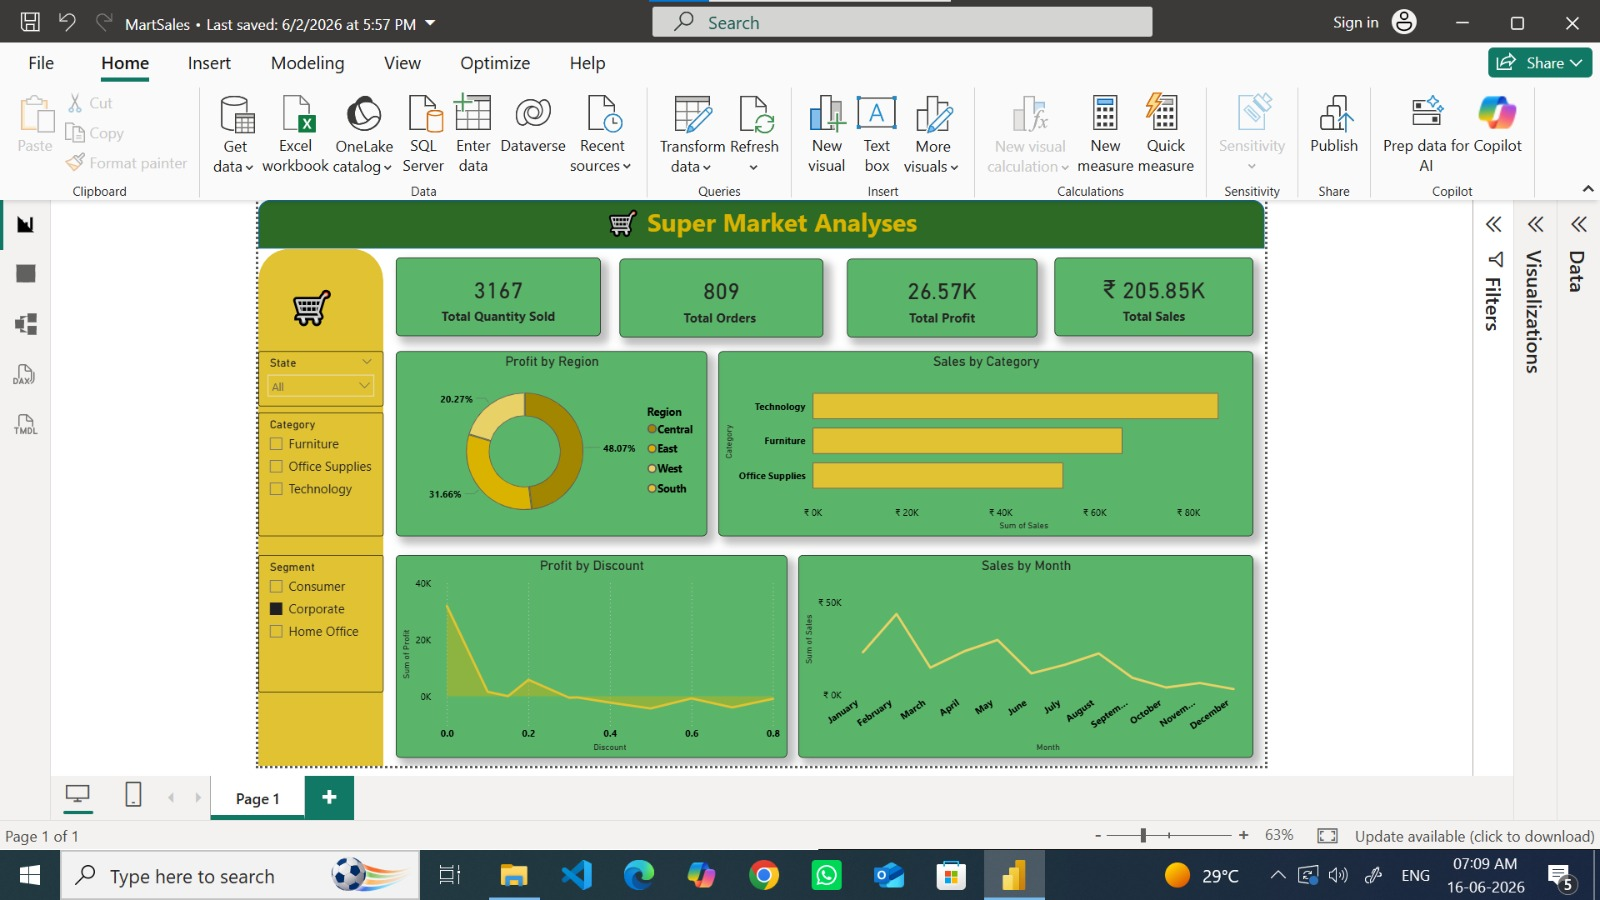

The page's visual inventory and layout, read from the dashboard file:
{"tool":"powerbi","page":{"name":"Page 1","canvas":[1280,720],"ordinal":0},"visuals":[{"type":"shape","box":[0,0,1280.4,62],"z":0},{"type":"textbox","box":[0,0,1280.4,62],"z":1000},{"type":"card","fields":{"Values":["Sum(Sample - Superstore.Sales)"]},"box":[1013.2,73.2,252.9,100.2],"z":2000},{"type":"card","fields":{"Values":["Sum(Sample - Superstore.Profit)"]},"box":[749.2,74.8,241.8,100.2],"z":3000},{"type":"card","fields":{"Values":["CountNonNull(Sample - Superstore.Order ID)"]},"box":[459.7,74.8,259.3,100.2],"z":4000},{"type":"card","fields":{"Values":["Sum(Sample - Superstore.Quantity)"]},"box":[175,73.2,260.9,100.2],"z":5000},{"type":"shape","box":[0,62,159.1,658.5],"z":6000},{"type":"clusteredBarChart","title":" Sales by Category","fields":{"Y":["Sum(Sample - Superstore.Sales)"],"Category":["Sample - Superstore.Category"]},"box":[585.3,192.5,680.8,235.4],"z":6001},{"type":"donutChart","title":"Profit by Region","fields":{"Y":["Sum(Sample - Superstore.Profit)"],"Category":["Sample - Superstore.Region"]},"box":[175,192.5,396.1,235.4],"z":6002},{"type":"lineChart","title":" Sales by Month","fields":{"Y":["Sum(Sample - Superstore.Sales)"],"Category":["Sample - Superstore.Order Date.Variation.Date Hierarchy.Month"]},"box":[687.1,451.7,579,257.7],"z":6003},{"type":"slicer","fields":{"Values":["Sample - Superstore.State"]},"box":[0,192.5,159.1,70],"z":6004},{"type":"slicer","fields":{"Values":["Sample - Superstore.Category"]},"box":[0,270.4,159.1,157.5],"z":6005},{"type":"areaChart","title":"Profit by Discount","fields":{"Y":["Sum(Sample - Superstore.Profit)"],"Category":["Sample - Superstore.Discount"]},"box":[175,451.7,497.9,257.7],"z":6006},{"type":"slicer","fields":{"Values":["Sample - Superstore.Segment"]},"box":[0,451.7,159.1,175],"z":6007},{"type":"textbox","box":[22.3,100.2,90.7,73.2],"z":6008}]}

Visuals, with their boxes on the page's 1280x720 design canvas (x1, y1, x2, y2). These are canvas units, not pixel positions in the 1600x900 screenshot, which may show the page scaled, cropped or inside an application window:
shape: {"left": 0, "top": 0, "right": 1280, "bottom": 62}
textbox: {"left": 0, "top": 0, "right": 1280, "bottom": 62}
card - Sum(Sample - Superstore.Sales): {"left": 1013, "top": 73, "right": 1266, "bottom": 173}
card - Sum(Sample - Superstore.Profit): {"left": 749, "top": 75, "right": 991, "bottom": 175}
card - CountNonNull(Sample - Superstore.Order ID): {"left": 460, "top": 75, "right": 719, "bottom": 175}
card - Sum(Sample - Superstore.Quantity): {"left": 175, "top": 73, "right": 436, "bottom": 173}
shape: {"left": 0, "top": 62, "right": 159, "bottom": 720}
" Sales by Category" clusteredBarChart: {"left": 585, "top": 192, "right": 1266, "bottom": 428}
"Profit by Region" donutChart: {"left": 175, "top": 192, "right": 571, "bottom": 428}
" Sales by Month" lineChart: {"left": 687, "top": 452, "right": 1266, "bottom": 709}
slicer - Sample - Superstore.State: {"left": 0, "top": 192, "right": 159, "bottom": 262}
slicer - Sample - Superstore.Category: {"left": 0, "top": 270, "right": 159, "bottom": 428}
"Profit by Discount" areaChart: {"left": 175, "top": 452, "right": 673, "bottom": 709}
slicer - Sample - Superstore.Segment: {"left": 0, "top": 452, "right": 159, "bottom": 627}
textbox: {"left": 22, "top": 100, "right": 113, "bottom": 173}
